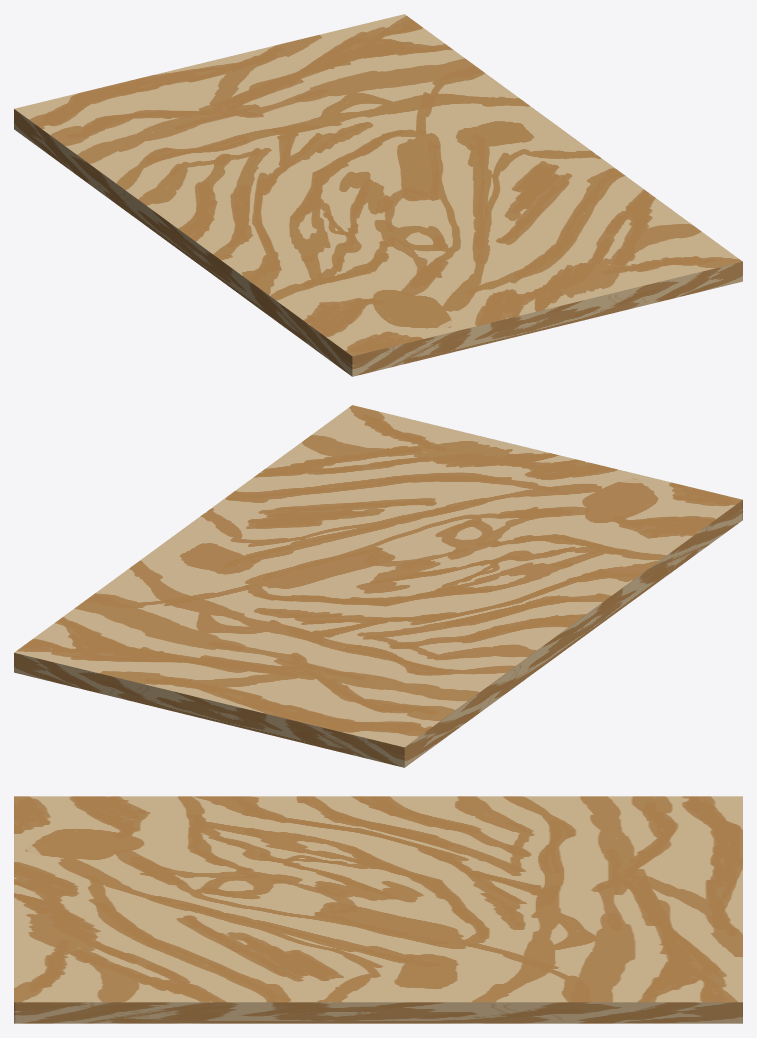
File: Plywood.fbx
3 renders of one model, top to bottom at view 1: azimuth 30°, elevation 25°; view 2: azimuth 150°, elevation 25°; view 3: azimuth 270°, elevation 25°, orthographic. The views are drawn at different scales.
Visible parts, largest first — view 1: Awning; view 2: Awning; view 3: Awning.
Part boxes in pixels (x1,y1,x2,y2): Awning: (14, 14, 742, 376); Awning: (14, 405, 742, 767); Awning: (14, 796, 742, 1023).
Size of the model in its own units: 20 by 1 by 30.
Materials: 1 (1 with a texture image).
